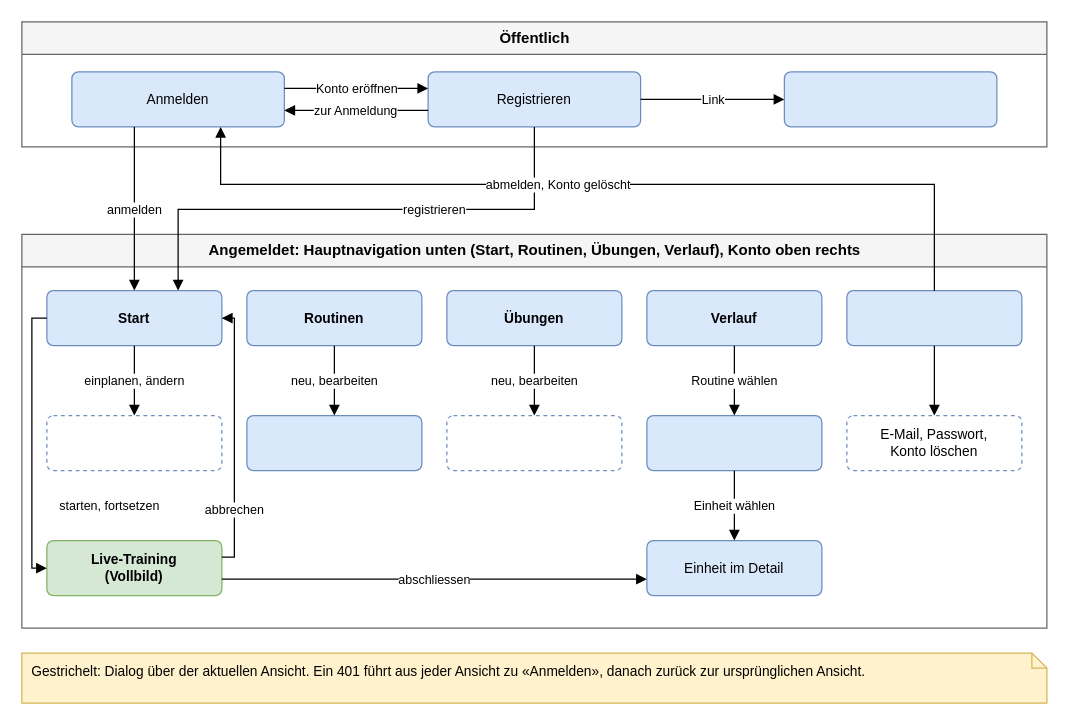
Some shapes in this 1069 by 725 pixel diagram are drawn without their labels. Here are the shapes that lost their labels. From the top down, the centre of each, then its label:
point 890,99: Datenschutz
point 934,317: Konto
point 134,442: Training einplanen oder ändern
point 334,442: Routine bearbeiten
point 534,442: Übung bearbeiten
point 734,442: Einheiten einer Routine
